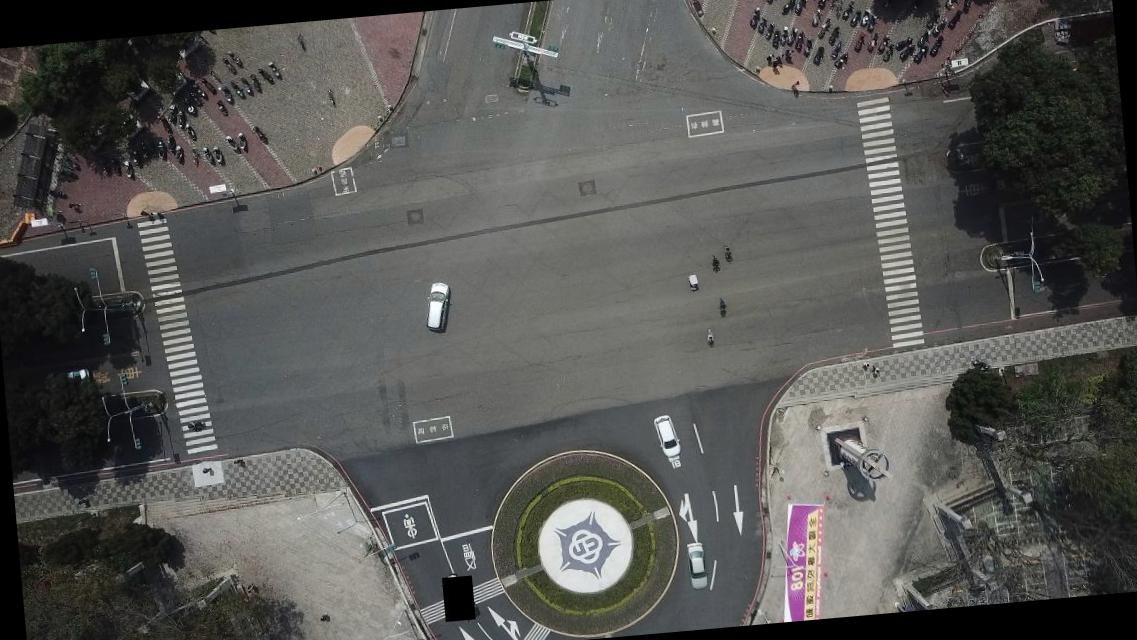vehicle: (422, 284, 451, 330), (652, 416, 681, 458), (686, 542, 707, 590), (49, 368, 90, 388)
